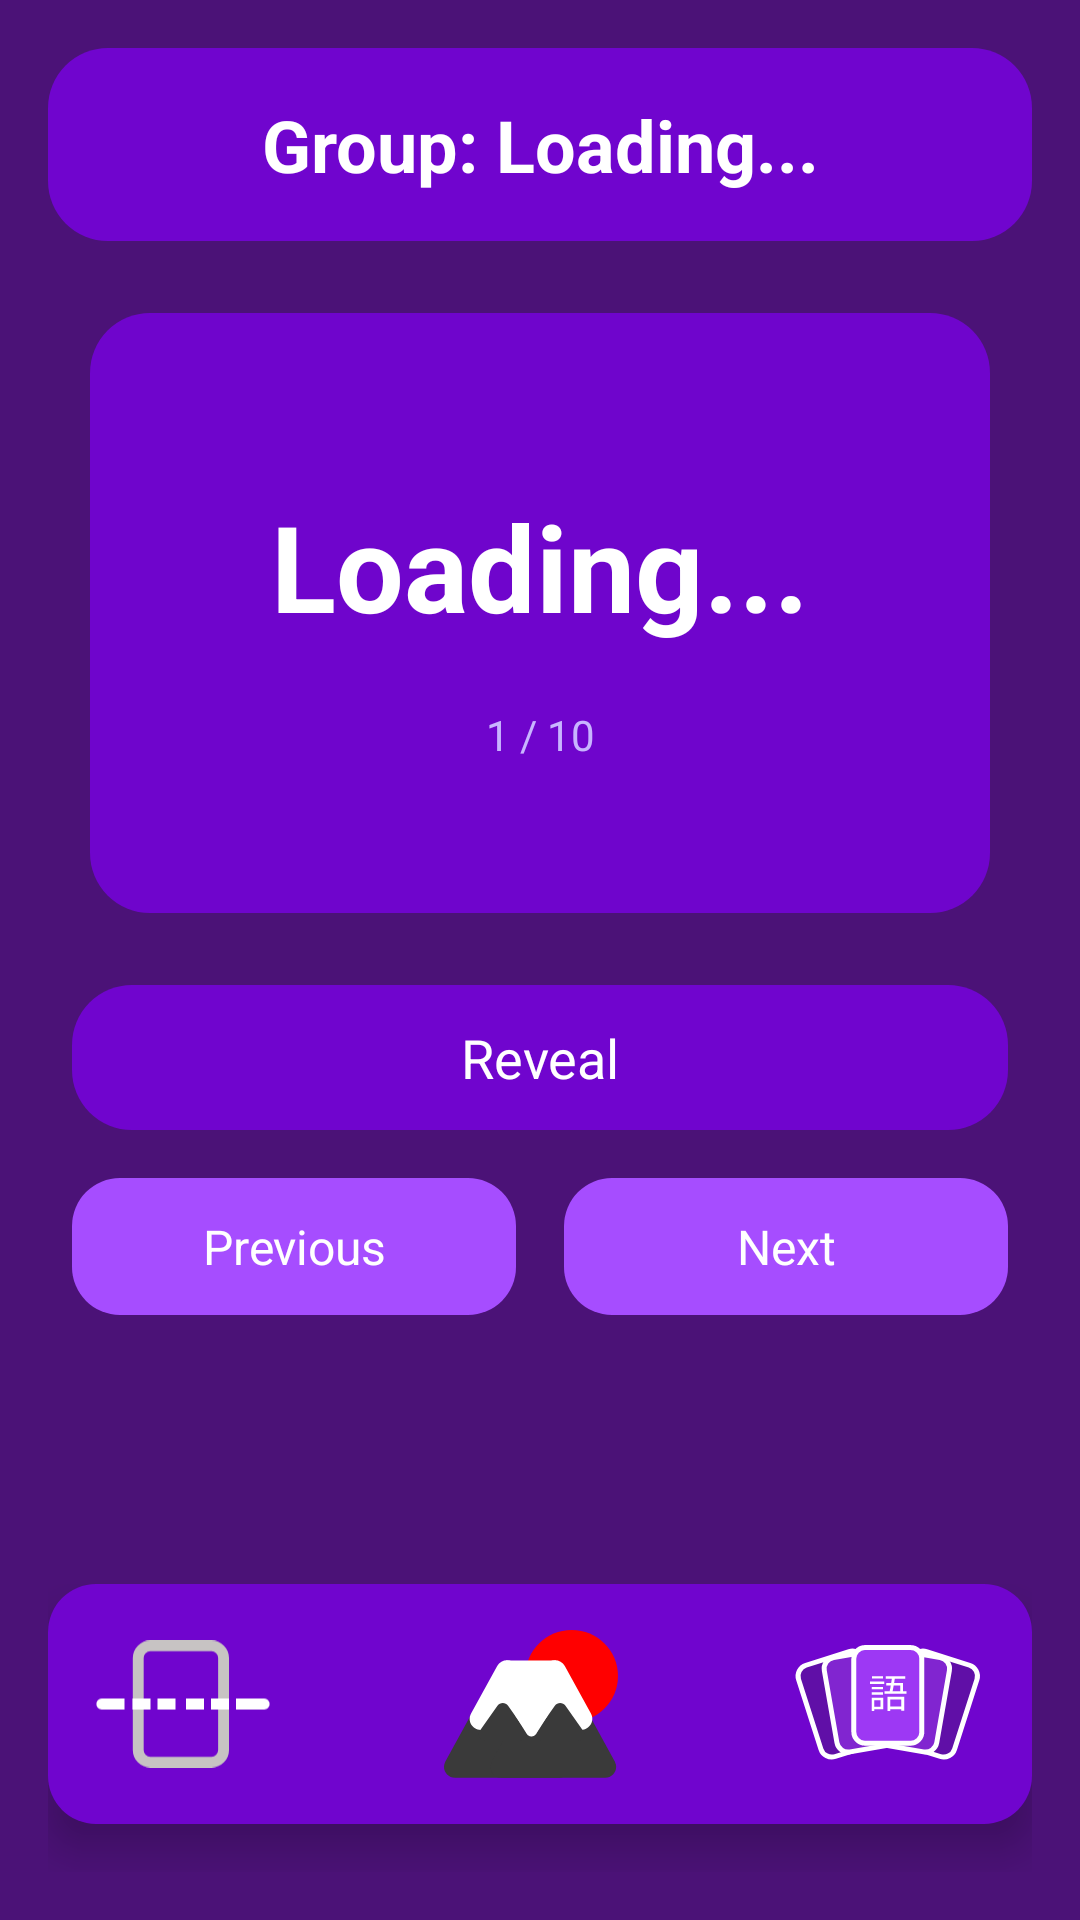

Icon click points for this 1080*1920 phone screenshot, format (x=x, y=y):
decks: (x=887, y=1702)
scan: (x=183, y=1704)
